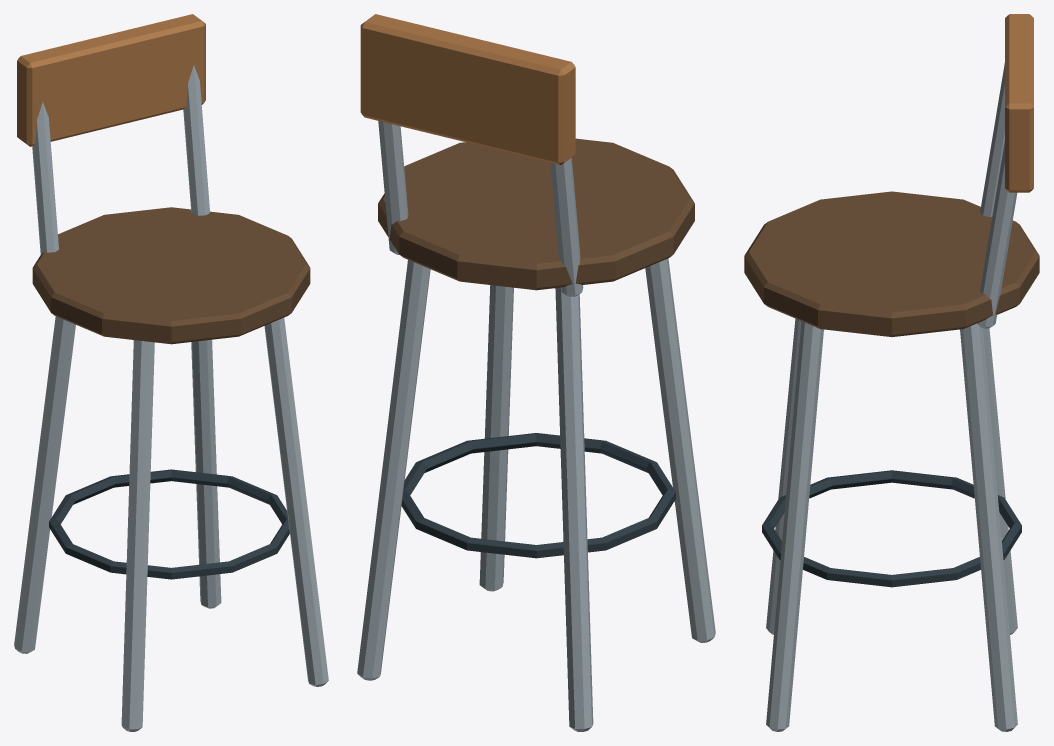
Rendered from b10_cafe_bar_stool_with_back.glb.
3 renders of one model, left to right at view 1: azimuth 30°, elevation 25°; view 2: azimuth 150°, elevation 25°; view 3: azimuth 270°, elevation 25°, orthographic. The views are drawn at different scales.
Visible parts, largest first — view 1: b10_cafe_bar_stool_with_back; view 2: b10_cafe_bar_stool_with_back; view 3: b10_cafe_bar_stool_with_back.
Part boxes in pixels (box(x1,y1,x2,y2)): b10_cafe_bar_stool_with_back: box(14, 14, 328, 731); b10_cafe_bar_stool_with_back: box(357, 14, 715, 731); b10_cafe_bar_stool_with_back: box(744, 14, 1039, 731).
Bounding box in the file's own units: 0.51 × 1.19 × 0.51.
